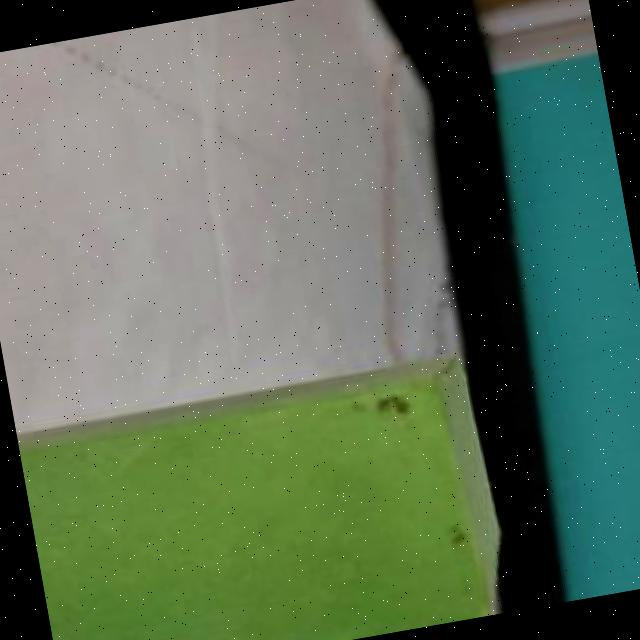greenbox: (15, 355, 506, 640)
